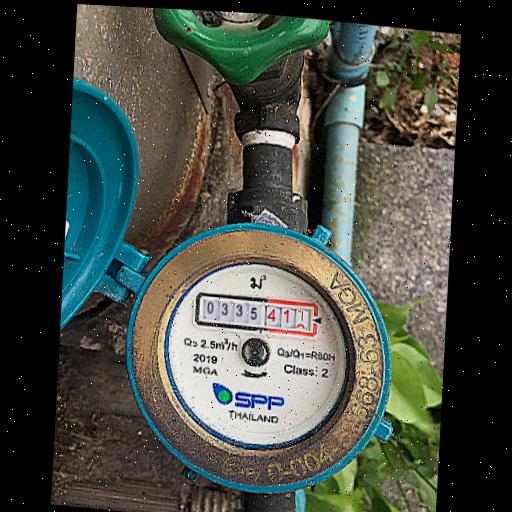0: (204, 300, 217, 321)
1: (281, 308, 295, 329), (296, 310, 309, 331)
3: (219, 302, 232, 322), (234, 303, 247, 323)
4: (266, 307, 280, 327)
5: (248, 305, 261, 326)
border_water_meter_number: (194, 291, 319, 338)
